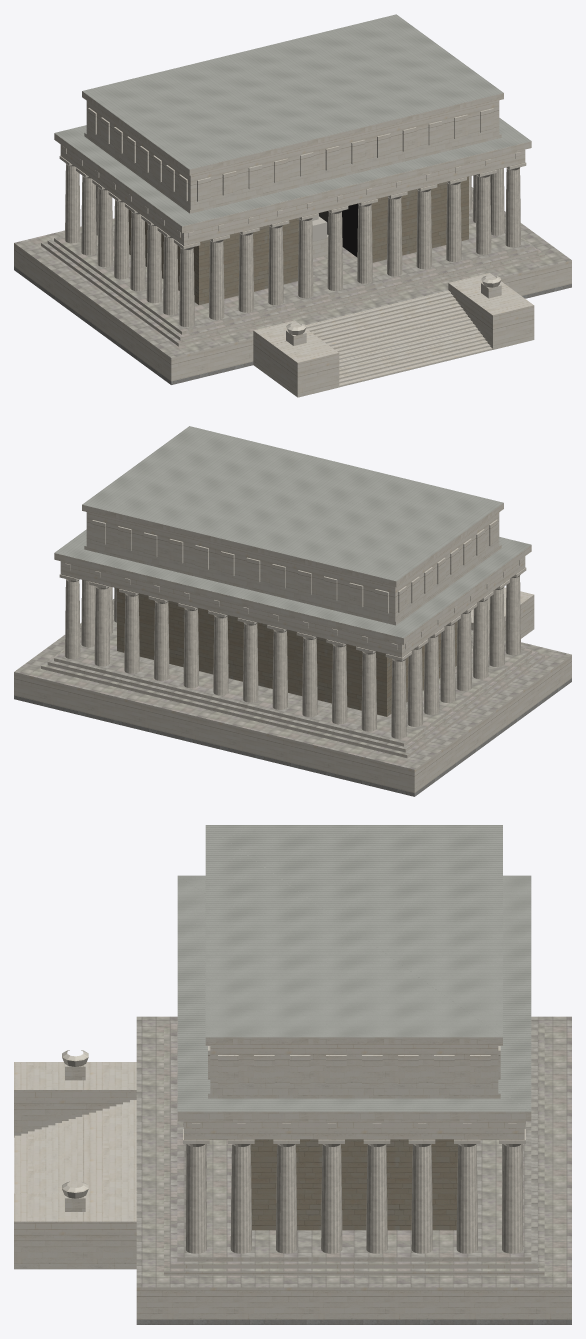
File: lincoln_memorial.glb
3 renders of one model, top to bottom at view 1: azimuth 30°, elevation 25°; view 2: azimuth 150°, elevation 25°; view 3: azimuth 270°, elevation 25°, orthographic. The views are drawn at different scales.
Visible parts, largest first — view 1: lincoln_memorial; view 2: lincoln_memorial; view 3: lincoln_memorial.
Boxes of the visible parts, box(x1,y1,x2,y2) form: lincoln_memorial: box(14, 14, 571, 397); lincoln_memorial: box(14, 426, 571, 796); lincoln_memorial: box(14, 825, 571, 1324).
Size of the model in its own units: 67.8 by 30.2 by 59.1.
7 materials, 7 textured.
